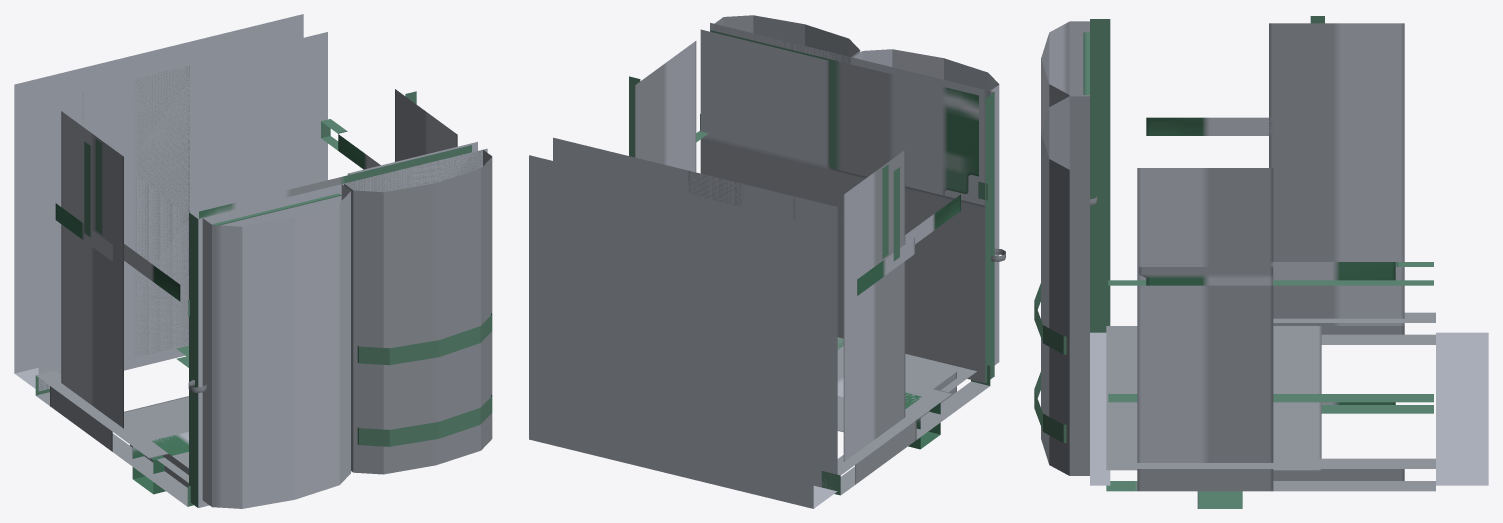
Rendered from section-1.obj.
3 views of the same model, side by side, from view 1: azimuth 30°, elevation 25°; view 2: azimuth 150°, elevation 25°; view 3: azimuth 270°, elevation 25° (orthographic). The views are drawn at different scales.
Size of the model in its own units: 0.94 by 0.92 by 1.12.
